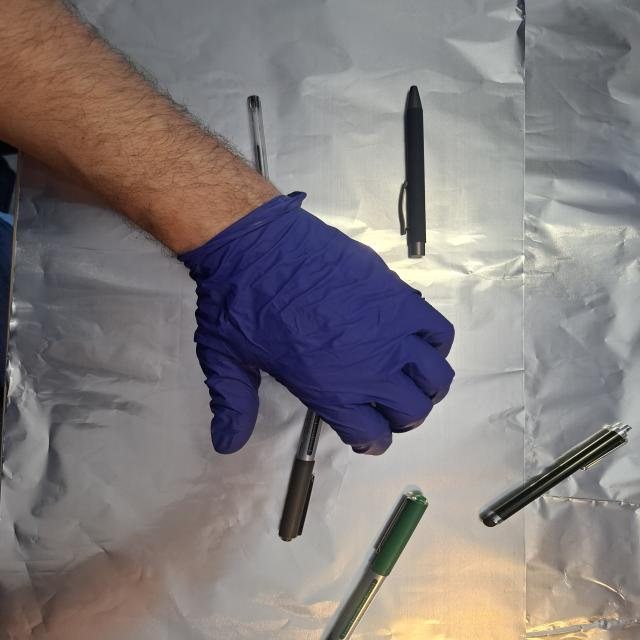glove_on: (182, 191, 458, 458)
